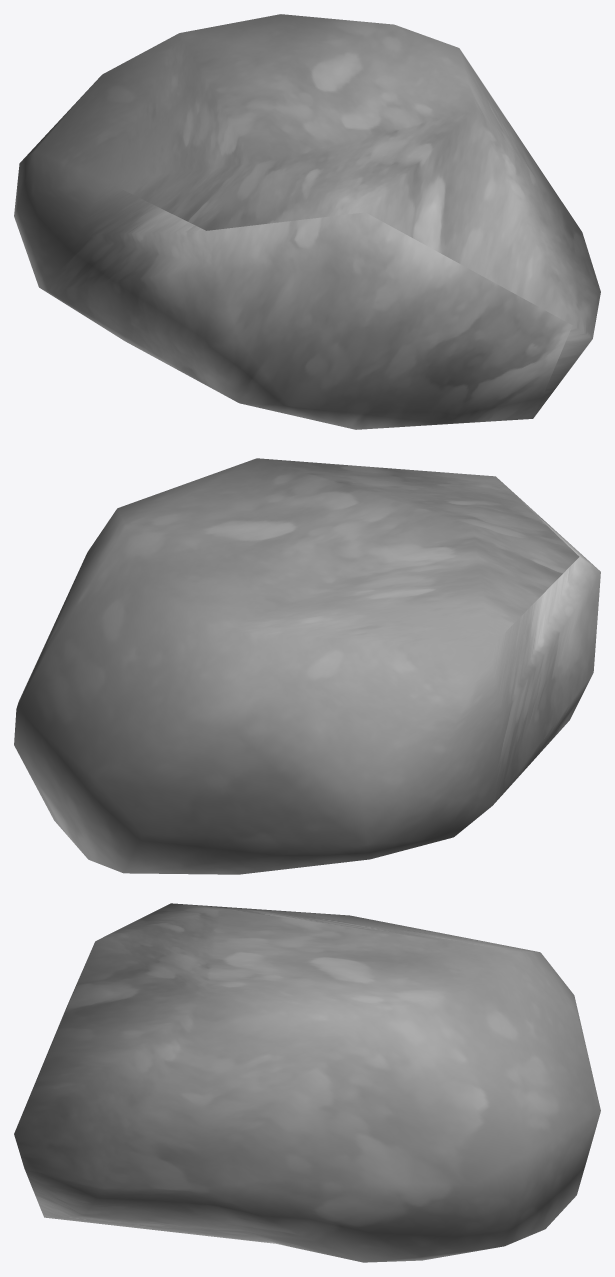
File: SM_Pebble_01a.fbx
3 renders of one model, top to bottom at view 1: azimuth 30°, elevation 25°; view 2: azimuth 150°, elevation 25°; view 3: azimuth 270°, elevation 25°, orthographic. The views are drawn at different scales.
Visible parts, largest first — view 1: SM_Pebble_01a_LOD0; view 2: SM_Pebble_01a_LOD0; view 3: SM_Pebble_01a_LOD0.
Boxes of the visible parts, box(x1,y1,x2,y2) form: SM_Pebble_01a_LOD0: box(14, 14, 600, 429); SM_Pebble_01a_LOD0: box(14, 458, 600, 874); SM_Pebble_01a_LOD0: box(14, 903, 600, 1262).
Bounding box in the file's own units: 44.27 × 54.2 × 25.97.
